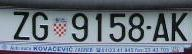-: (146, 24, 153, 30)
1: (95, 12, 103, 43)
5: (109, 12, 125, 42)
8: (129, 13, 144, 42)
9: (71, 13, 88, 41)
A: (153, 14, 170, 41)
G: (33, 11, 49, 40)
K: (172, 13, 188, 42)
Z: (13, 10, 31, 40)
